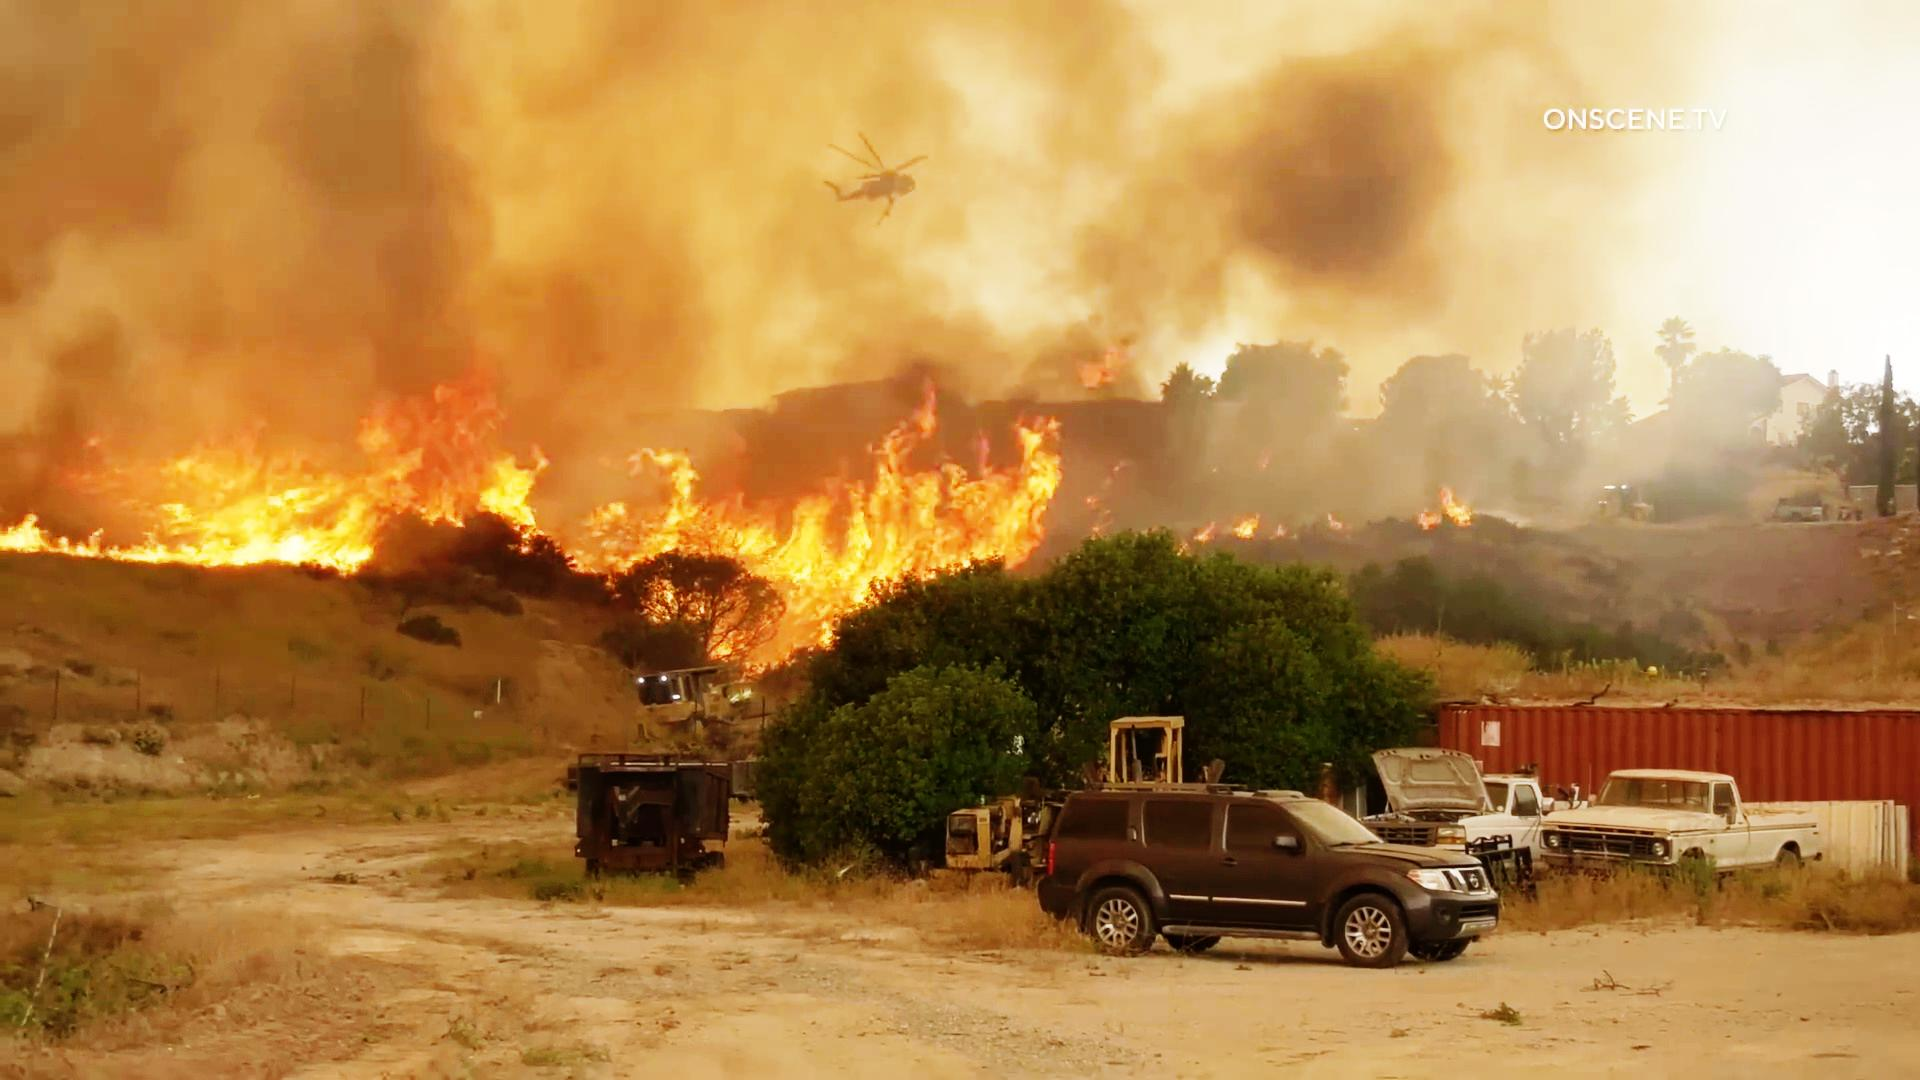fire: (306, 365, 698, 571), (707, 427, 1047, 625), (121, 396, 364, 567)
